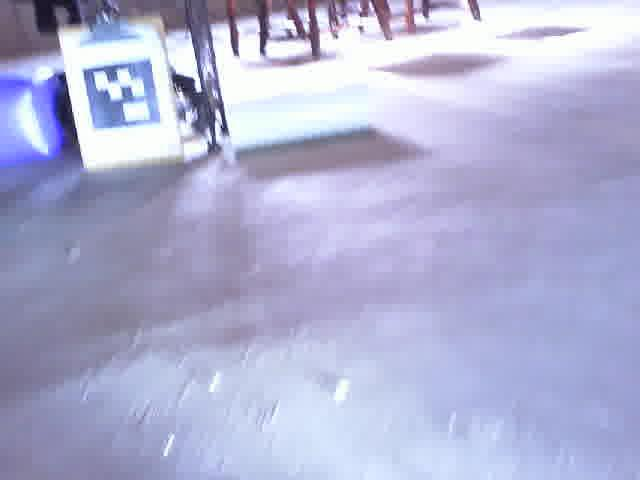coral: (229, 83, 369, 151)
